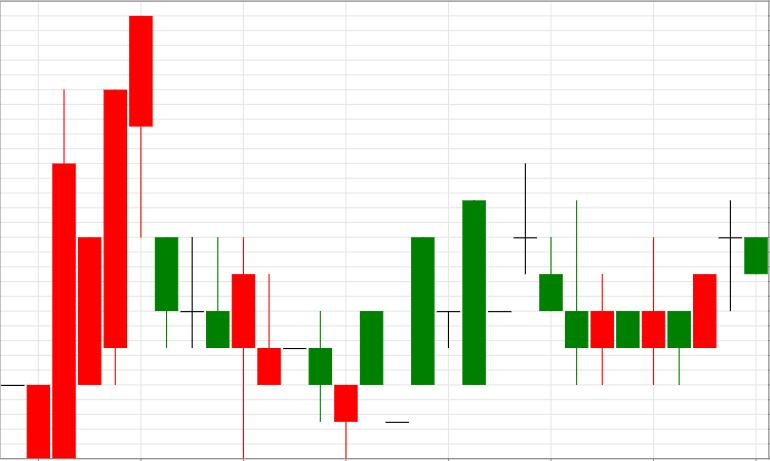inverse_hammer_rise: (129, 15, 229, 348)
